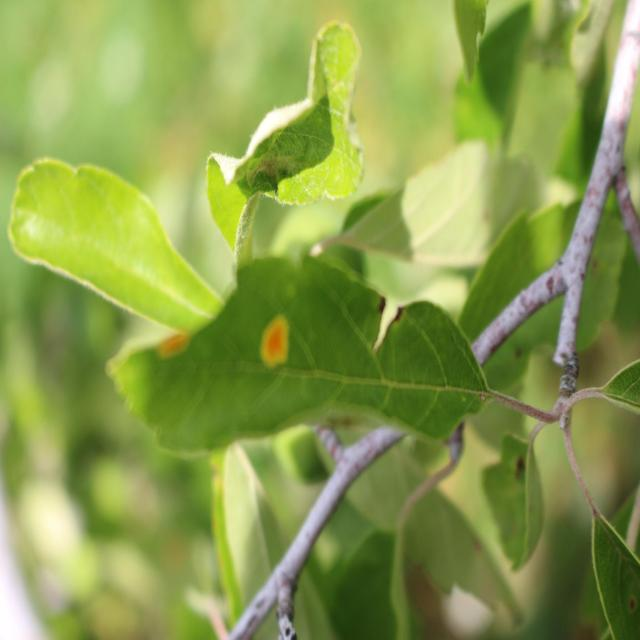Rust: (256, 311, 304, 374), (144, 326, 206, 372)
